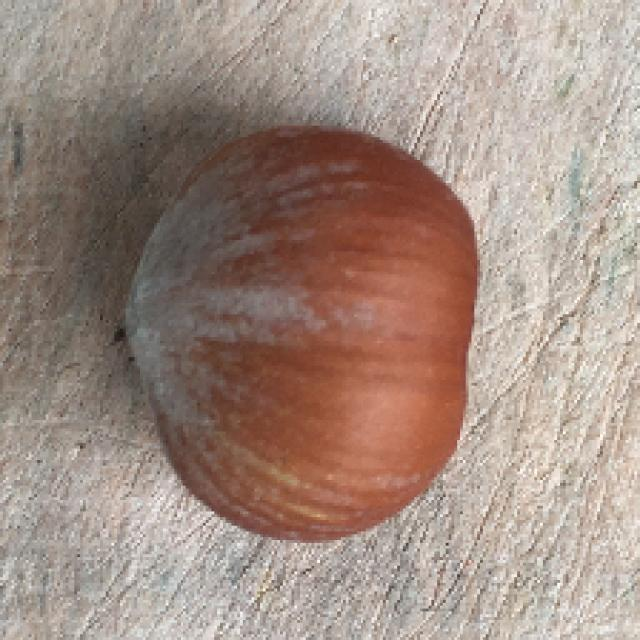qualityHazelnut: (121, 113, 488, 545)
